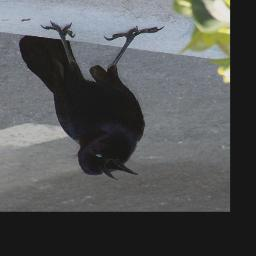Crow: (20, 22, 165, 181)
